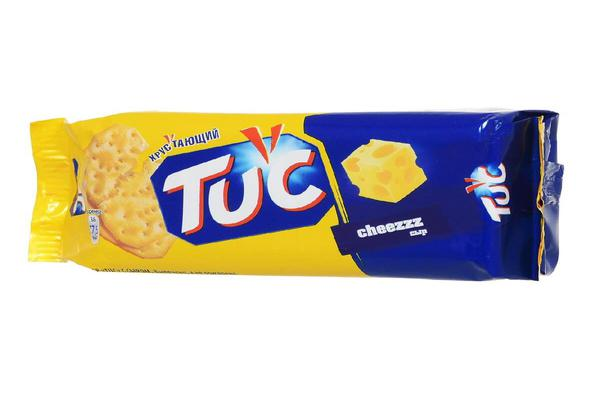crackers tuc: (60, 116, 550, 273)
